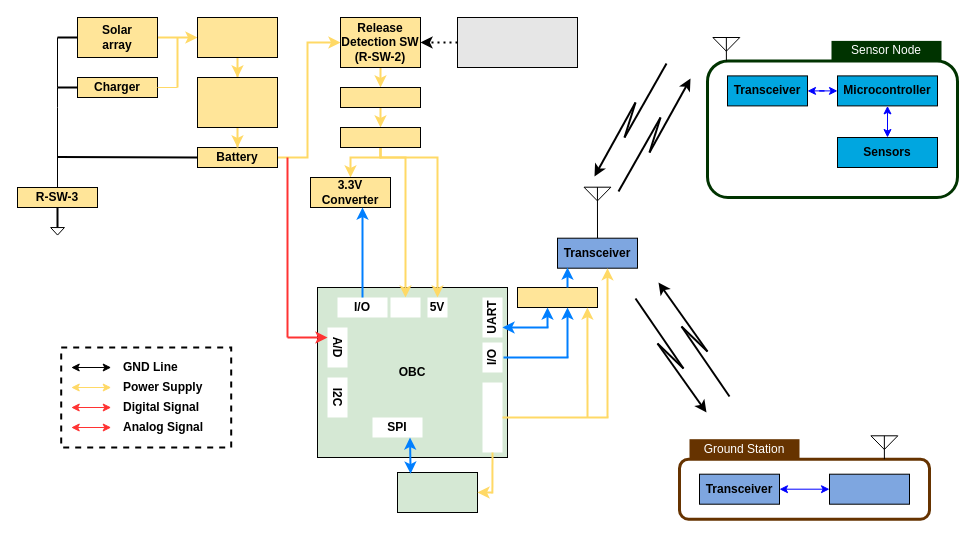
The diagram is 976 pixels wide and 538 high, and some of its shapes have lost their labels. The shapes that lost their labels are listed below. From the top down, each one's centre as x and y in pixels, then its label:
At (x=237, y=37): "Swich Solar/DC".
At (x=517, y=42): "Remove Before Flight Pin (RBF Pin-1)".
At (x=237, y=102): "Charge Manegement Controller".
At (x=380, y=97): "R-SW-1".
At (x=380, y=137): "Power SW".
At (x=405, y=307): "VIN".
At (x=557, y=297): "Analog SW".
At (x=492, y=417): "3.3V Out".
At (x=437, y=492): "micro SD Card".
At (x=869, y=488): "PC".
